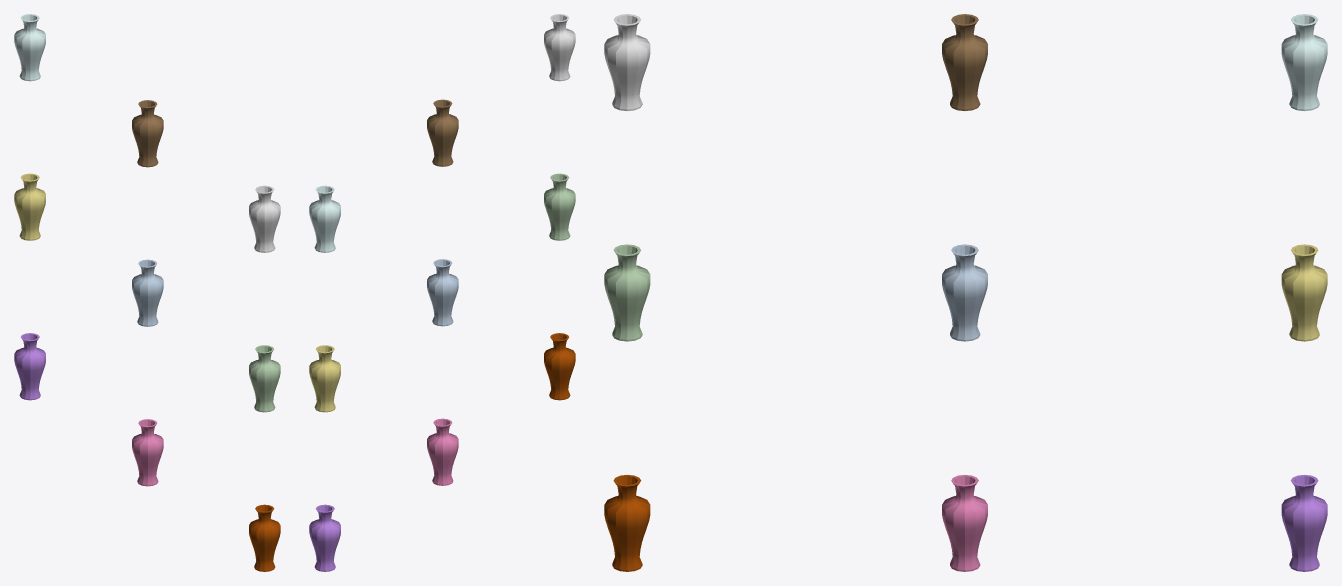
The model's file is vase_3.fbx.
3 views of the same model, side by side, from view 1: azimuth 30°, elevation 25°; view 2: azimuth 150°, elevation 25°; view 3: azimuth 270°, elevation 25° (orthographic). The views are drawn at different scales.
Parts seen in each view (by area): view 1: pCylinder225, pCylinder171, pCylinder207, pCylinder216, pCylinder180, pCylinder198, pCylinder243, pCylinder234, pCylinder189; view 2: pCylinder198, pCylinder189, pCylinder180, pCylinder234, pCylinder243, pCylinder171, pCylinder216, pCylinder225, pCylinder207; view 3: pCylinder216, pCylinder243, pCylinder198, pCylinder225, pCylinder207, pCylinder234, pCylinder189, pCylinder171, pCylinder180.
Part boxes in pixels (left/top/right/bottom): pCylinder225: left=14, top=173, right=45, bottom=240; pCylinder171: left=132, top=259, right=163, bottom=326; pCylinder207: left=249, top=185, right=280, bottom=252; pCylinder216: left=249, top=504, right=280, bottom=571; pCylinder180: left=132, top=100, right=163, bottom=167; pCylinder198: left=249, top=345, right=280, bottom=412; pCylinder243: left=14, top=333, right=45, bottom=400; pCylinder234: left=14, top=14, right=45, bottom=81; pCylinder189: left=132, top=419, right=163, bottom=486; pCylinder198: left=544, top=173, right=575, bottom=240; pCylinder189: left=427, top=418, right=458, bottom=485; pCylinder180: left=427, top=99, right=458, bottom=166; pCylinder234: left=309, top=185, right=340, bottom=252; pCylinder243: left=309, top=504, right=340, bottom=571; pCylinder171: left=427, top=259, right=458, bottom=326; pCylinder216: left=544, top=333, right=575, bottom=400; pCylinder225: left=309, top=345, right=340, bottom=412; pCylinder207: left=544, top=14, right=575, bottom=81; pCylinder216: left=604, top=474, right=650, bottom=571; pCylinder243: left=1281, top=474, right=1327, bottom=571; pCylinder198: left=604, top=244, right=650, bottom=341; pCylinder225: left=1281, top=244, right=1327, bottom=341; pCylinder207: left=604, top=14, right=650, bottom=111; pCylinder234: left=1281, top=14, right=1327, bottom=111; pCylinder189: left=942, top=475, right=987, bottom=571; pCylinder171: left=942, top=244, right=987, bottom=341; pCylinder180: left=942, top=14, right=987, bottom=110.
Size of the model in its own units: 1.62 by 21.32 by 25.6.
